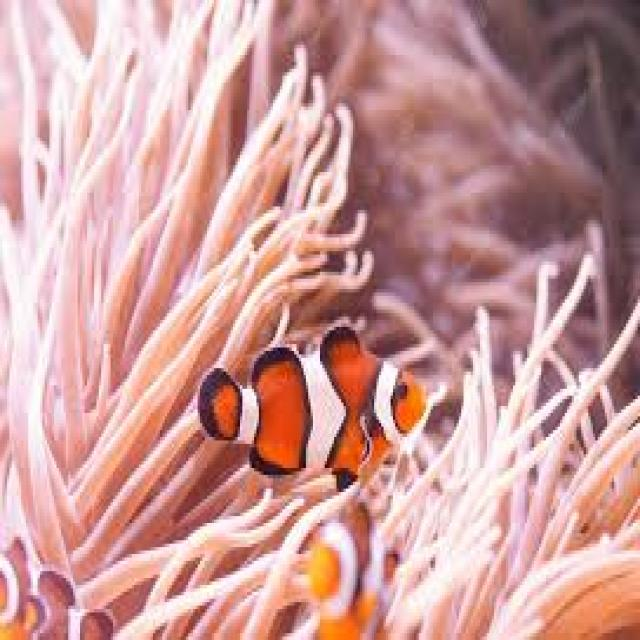Amphiprion-percula: (172, 302, 446, 503)
